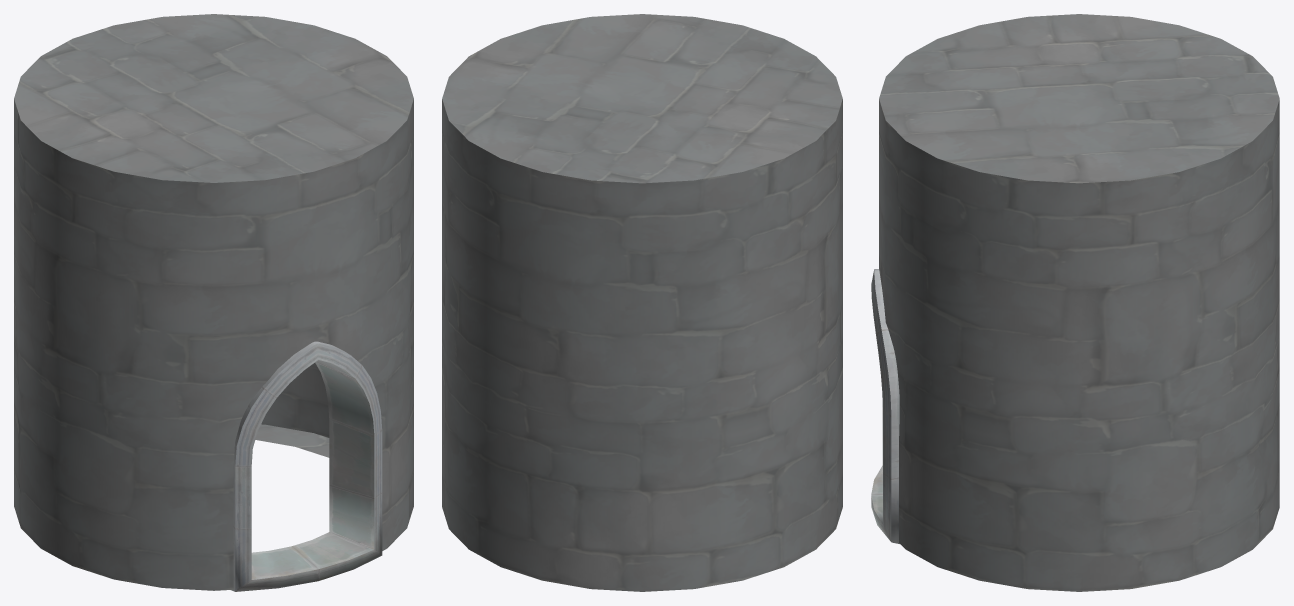
Rendered from SM_TowerC_Door.fbx.
3 views of the same model, side by side, from view 1: azimuth 30°, elevation 25°; view 2: azimuth 150°, elevation 25°; view 3: azimuth 270°, elevation 25° (orthographic).
Visible parts, largest first — view 1: SM_TowerC_Door_LOD0; view 2: SM_TowerC_Door_LOD0; view 3: SM_TowerC_Door_LOD0.
Part boxes in pixels (<box>): SM_TowerC_Door_LOD0: <box>14,14,413,591</box>; SM_TowerC_Door_LOD0: <box>442,14,842,591</box>; SM_TowerC_Door_LOD0: <box>871,14,1279,591</box>.
Size of what is drawn, in the model's own units: 400 by 463 by 408.
